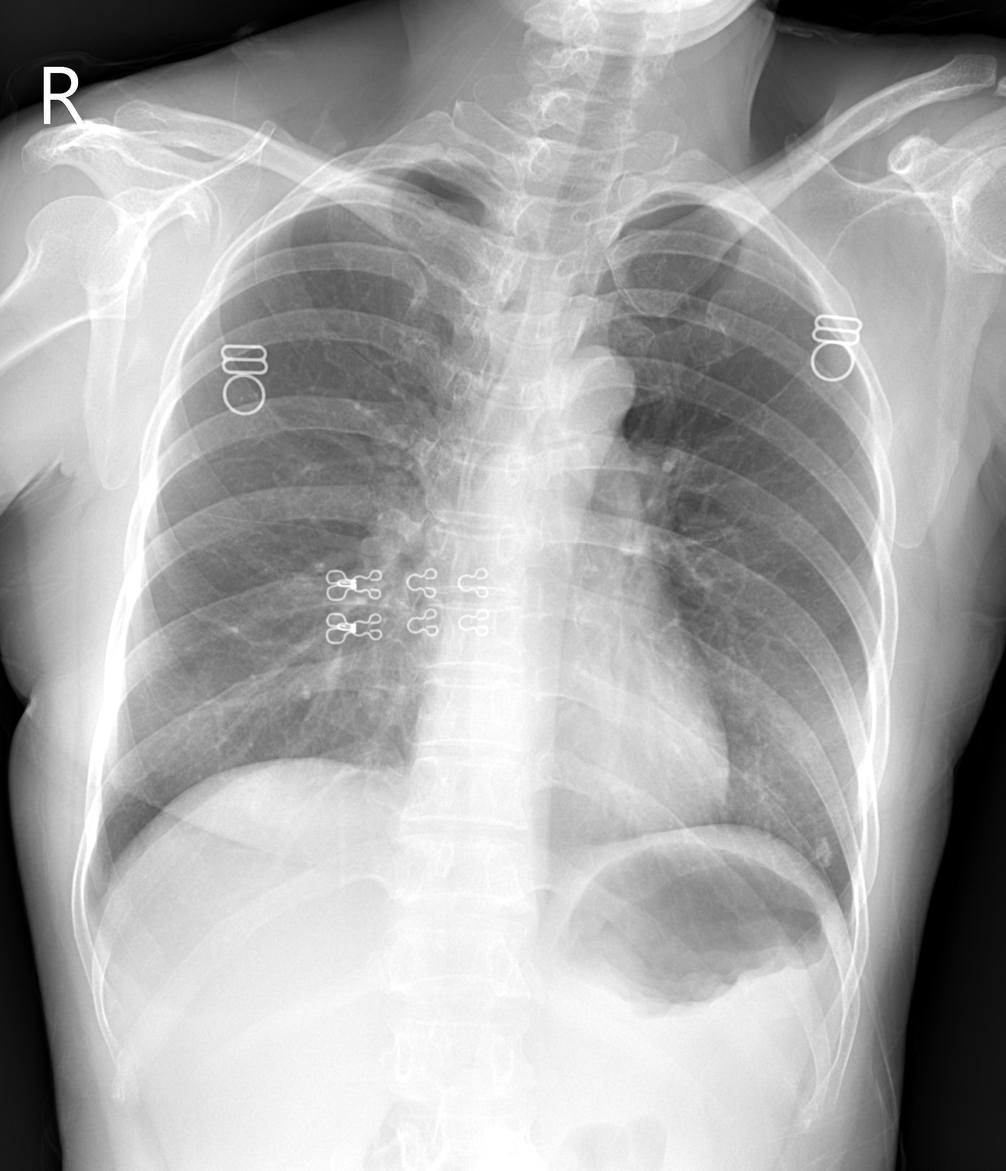Pleural thickening: (76, 857, 109, 917)
Pulmonary fibrosis: (810, 829, 830, 867)
